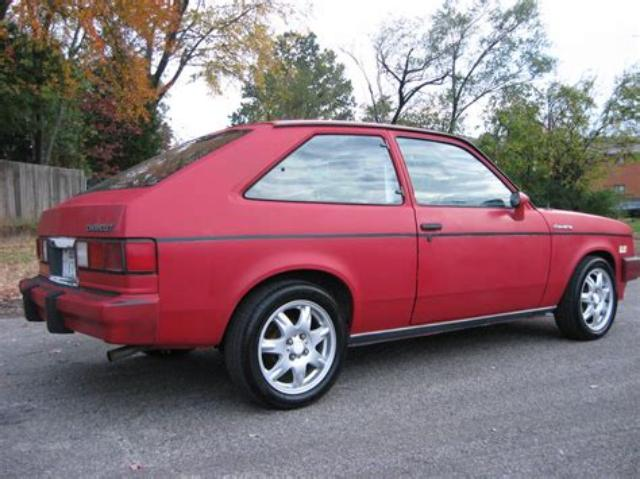chevette-1983: (19, 120, 639, 409)
